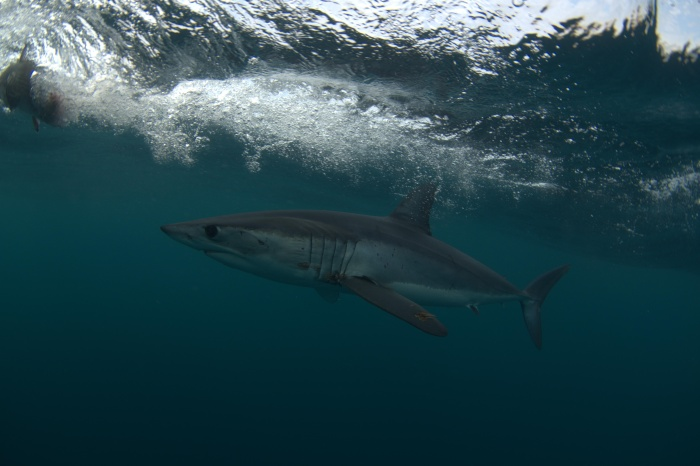Mako: (116, 164, 576, 359)
